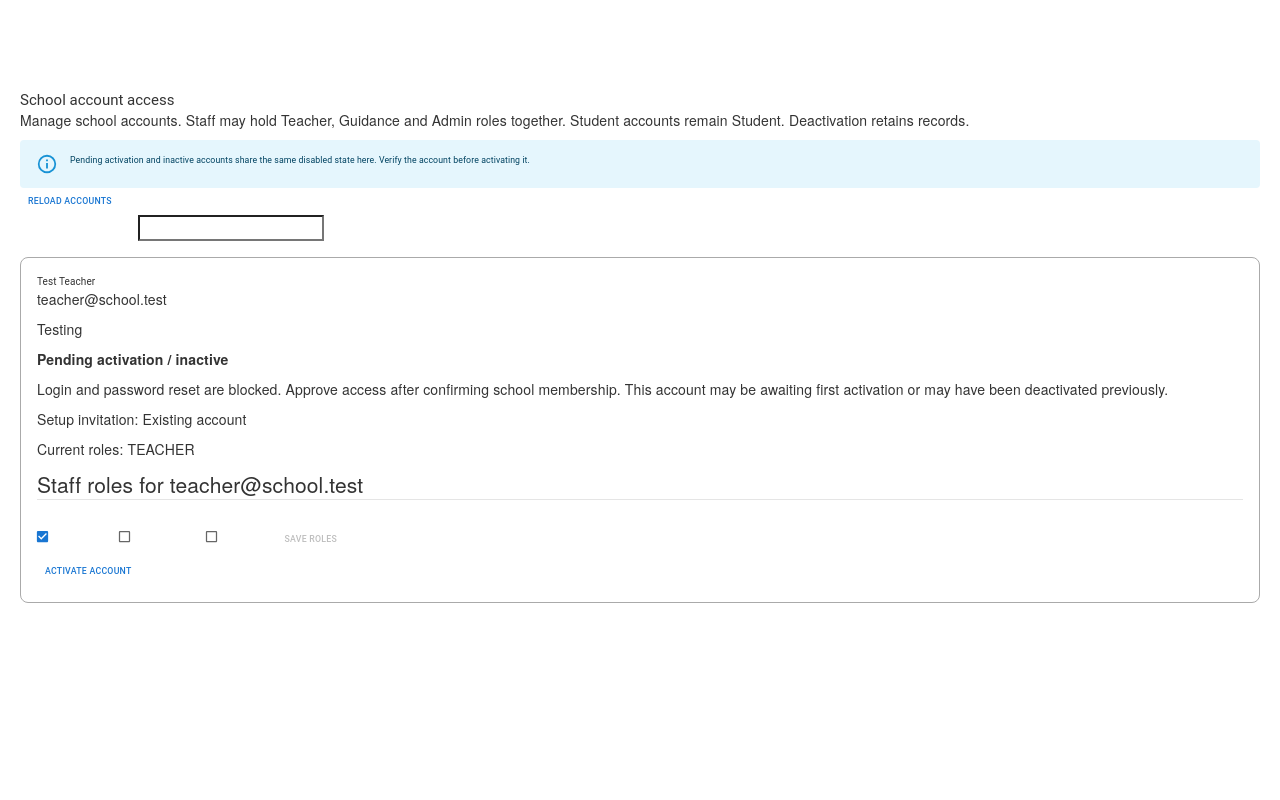
enabled false accepts 204 and refreshes persisted state
Step 1. Click the button "Activate account" → click(88, 572), box [37,558,140,586]
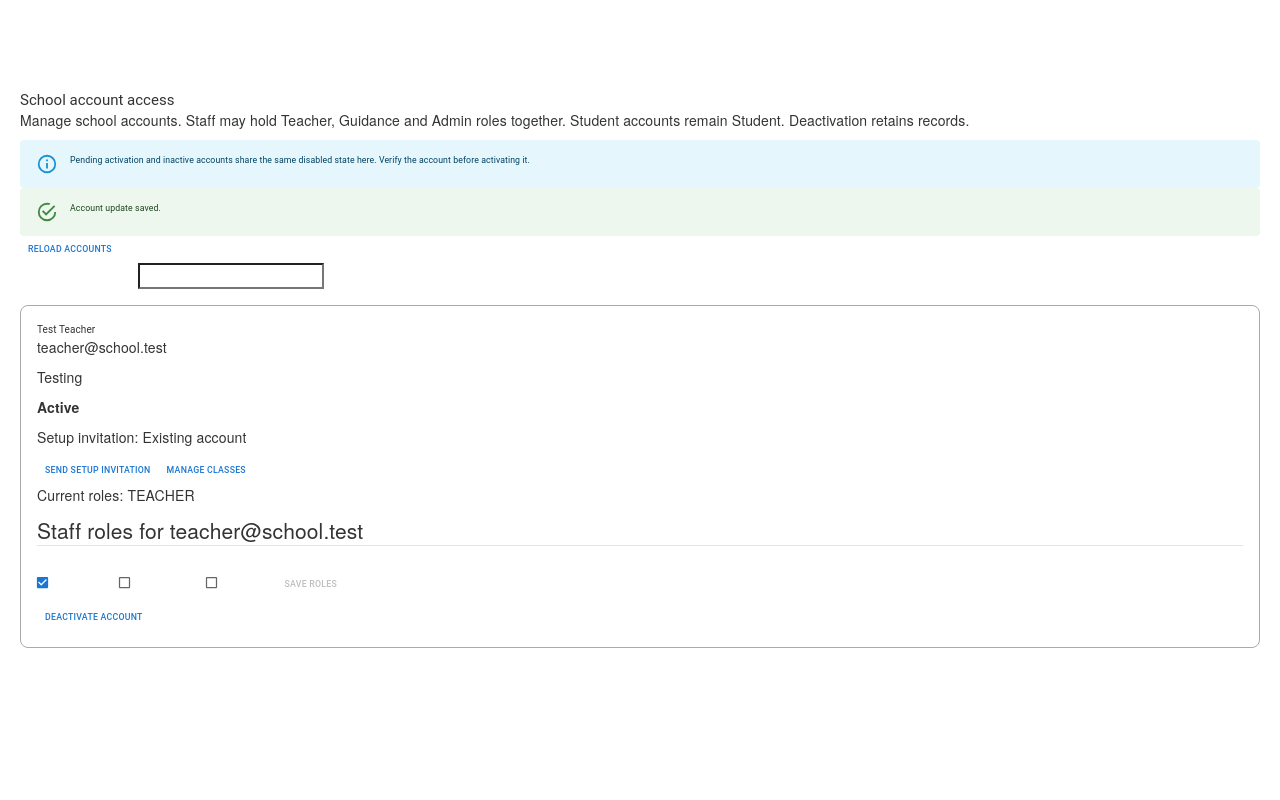
Result: the text "Account update saved." is shown at [70,203,161,213]
